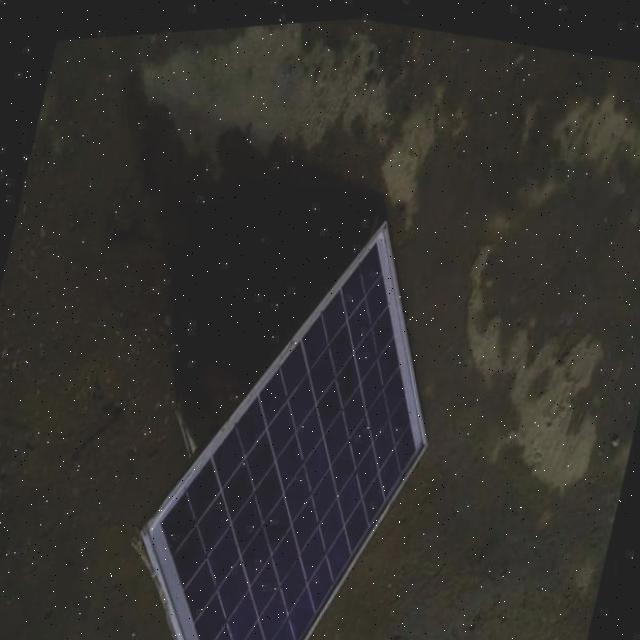Normal Solar Panel: (114, 176, 474, 640)
